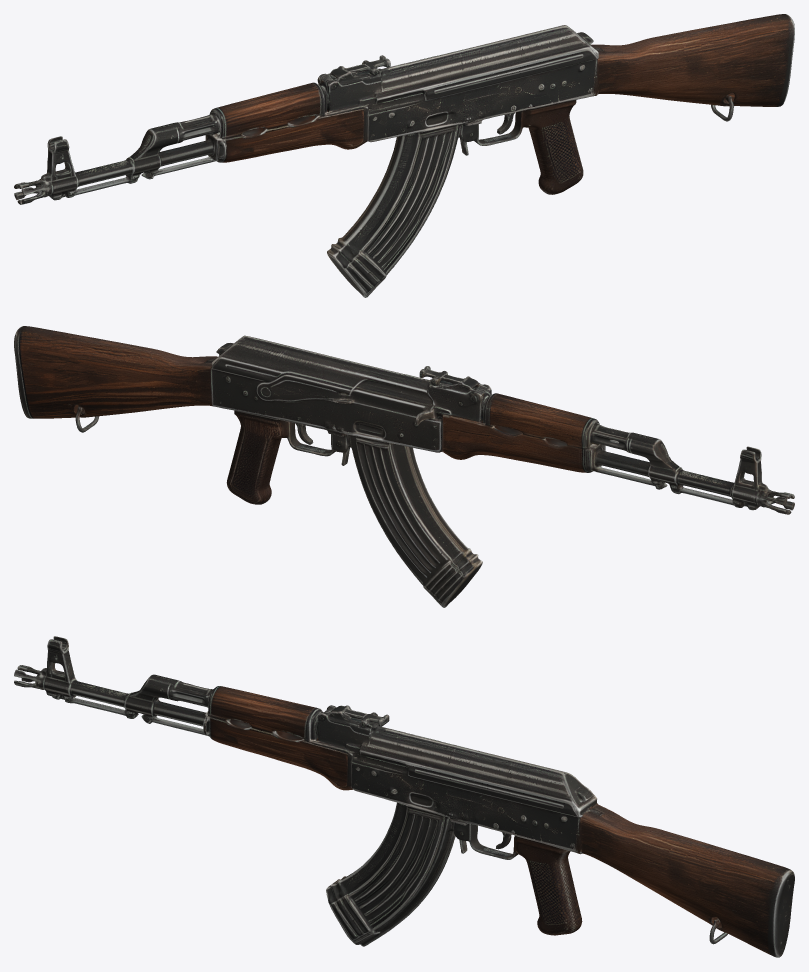
3 views of the same model, one above another, from view 1: azimuth 30°, elevation 25°; view 2: azimuth 150°, elevation 25°; view 3: azimuth 330°, elevation 25° (orthographic).
Bounding box in the file's own units: 1.9 × 0.5517 × 0.1319.
Materials: 1 (1 with a texture image).
